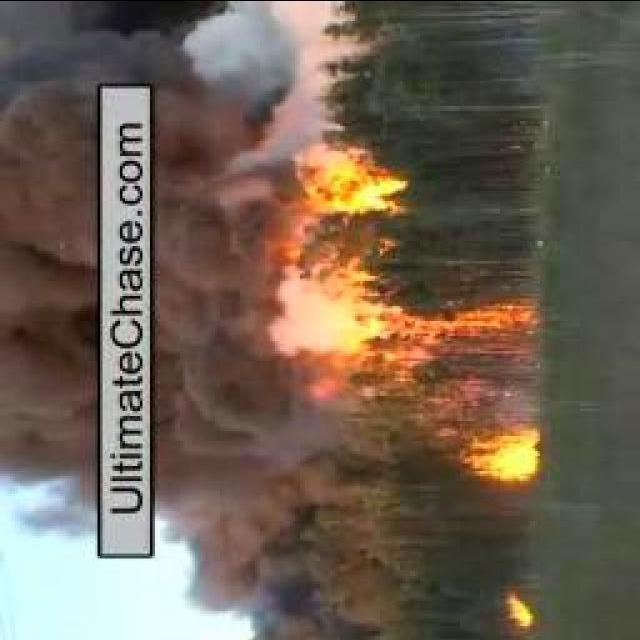Fire: (288, 138, 408, 226), (358, 292, 539, 342), (456, 420, 542, 484), (503, 582, 538, 630)
